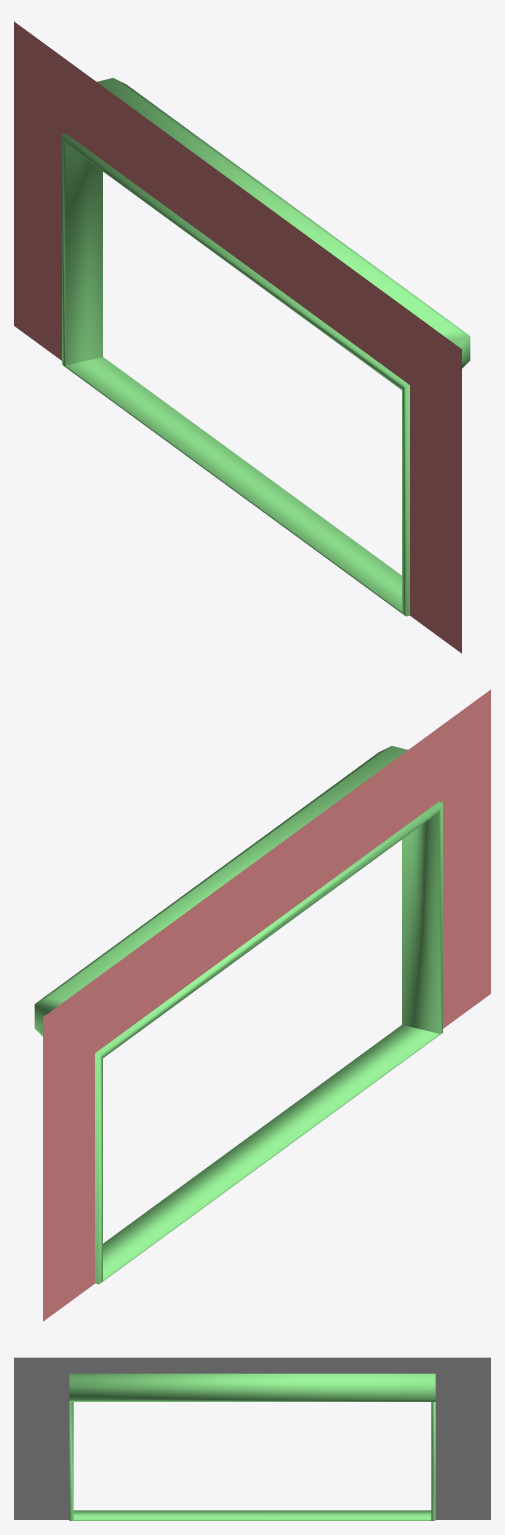
The model's file is SM_wallGarageDoor_01_double.gltf.
3 views of the same model, one above another, from view 1: azimuth 30°, elevation 25°; view 2: azimuth 150°, elevation 25°; view 3: azimuth 270°, elevation 25° (orthographic). The views are drawn at different scales.
Parts seen in each view (by area): view 1: SM_wallGarageDoor_01_double; view 2: SM_wallGarageDoor_01_double; view 3: SM_wallGarageDoor_01_double.
Boxes of the visible parts, box(x1,y1,x2,y2) form: SM_wallGarageDoor_01_double: box(14, 21, 470, 653); SM_wallGarageDoor_01_double: box(34, 689, 490, 1321); SM_wallGarageDoor_01_double: box(14, 1357, 490, 1520).
Bounding box in the file's own units: 0.6626 × 3 × 8.
